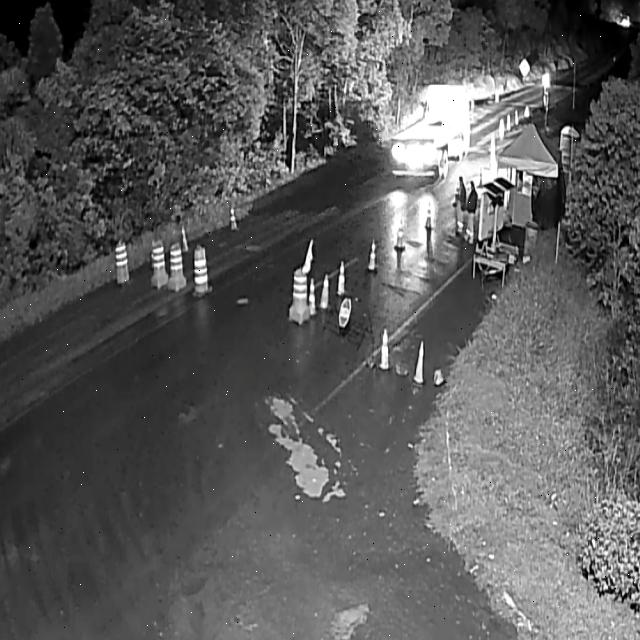big_cone: (290, 269, 308, 322), (193, 245, 208, 294), (114, 240, 130, 284), (151, 242, 165, 288), (170, 244, 183, 291)
small_cone: (412, 338, 426, 385), (334, 258, 348, 298), (378, 326, 390, 370), (308, 278, 321, 315), (394, 216, 406, 253), (321, 273, 332, 311), (425, 196, 435, 236), (366, 239, 376, 270), (180, 224, 190, 251), (230, 204, 238, 231)
